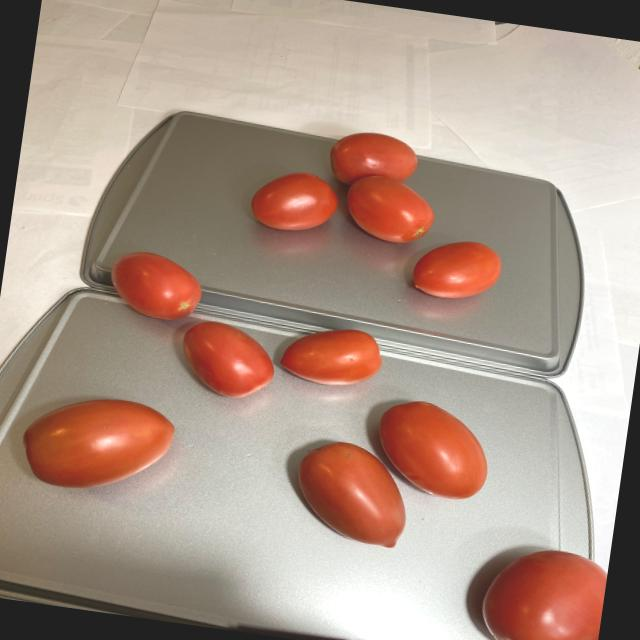tomato: (4, 241, 640, 640), (240, 117, 521, 306)
